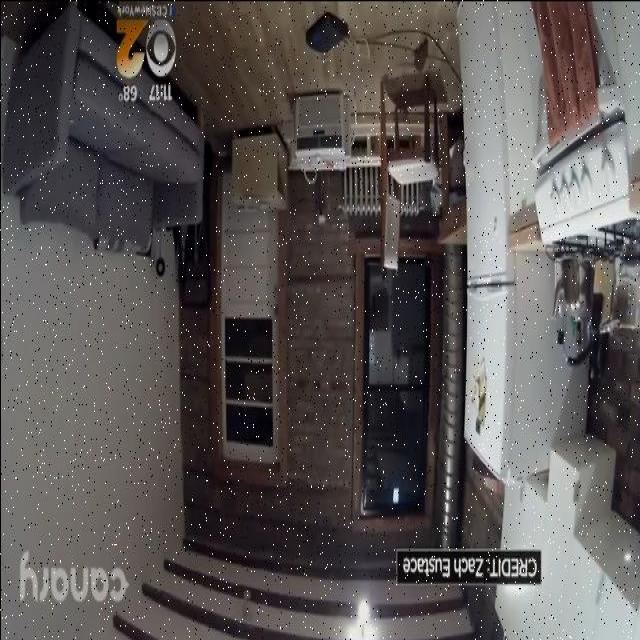rat: (408, 32, 431, 75)
